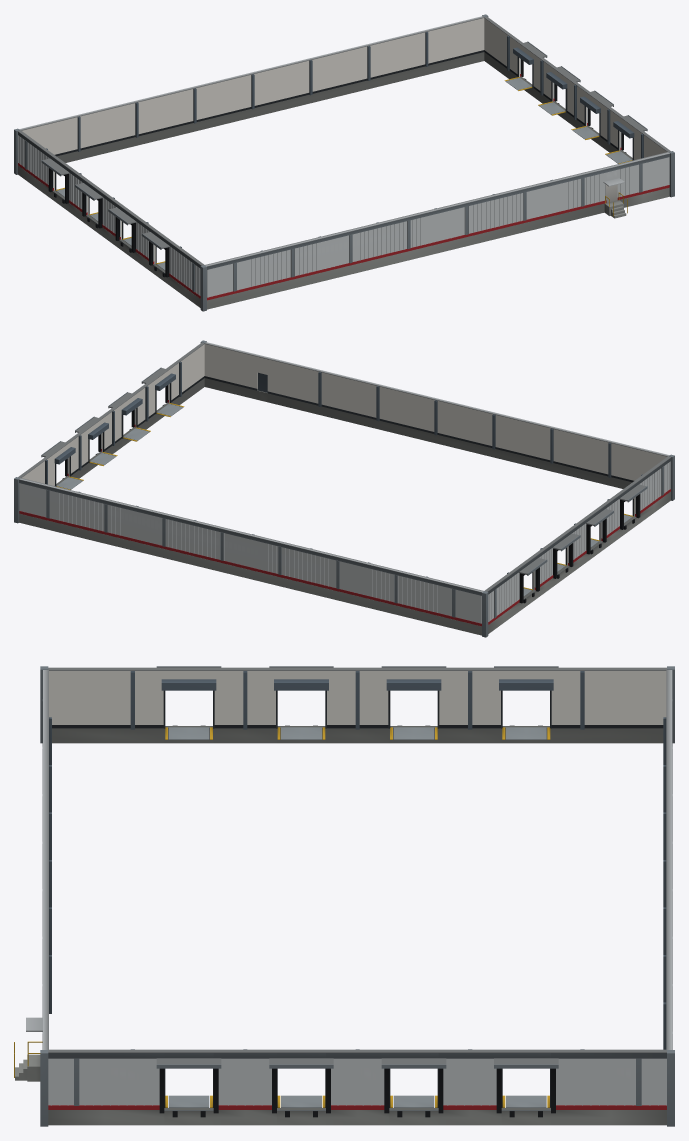
The model's file is nave-BtMkALyg.glb.
The picture shows the model from 3 angles, top to bottom: view 1: azimuth 30°, elevation 25°; view 2: azimuth 150°, elevation 25°; view 3: azimuth 270°, elevation 25°; orthographic projection. The views are drawn at different scales.
Parts seen in each view (by area): view 1: pieza.194, pieza.338, pieza.203, pieza.333, pieza.341, pieza.340, pieza.207, pieza.344, pieza.336, pieza.195, pieza.097, pieza.041 (+8 smaller); view 2: pieza.205, pieza.322, pieza.203, pieza.333, pieza.206, pieza.324, pieza.204, pieza.344, pieza.207, pieza.105, pieza.325, pieza.033 (+8 smaller); view 3: pieza, pieza.008, pieza.138, pieza.130, pieza.004, pieza.006, pieza.002, pieza.207, pieza.051, pieza.148, pieza.134, pieza.136 (+19 smaller).
Boxes of the visible parts, <box> form: pieza.194: <box>22,18,484,154</box>; pieza.338: <box>207,172,606,297</box>; pieza.203: <box>57,52,484,162</box>; pieza.333: <box>207,203,604,309</box>; pieza.341: <box>207,169,606,269</box>; pieza.340: <box>616,157,669,197</box>; pieza.207: <box>19,16,484,130</box>; pieza.344: <box>205,152,669,266</box>; pieza.336: <box>207,200,606,300</box>; pieza.195: <box>55,50,484,156</box>; pieza.097: <box>484,18,519,76</box>; pieza.041: <box>169,246,200,295</box>; pieza.205: <box>19,483,481,623</box>; pieza.322: <box>267,359,666,480</box>; pieza.203: <box>19,513,481,635</box>; pieza.333: <box>267,393,631,488</box>; pieza.206: <box>19,480,481,595</box>; pieza.324: <box>204,344,257,390</box>; pieza.204: <box>19,511,481,626</box>; pieza.344: <box>204,342,669,456</box>; pieza.207: <box>19,478,483,592</box>; pieza.105: <box>169,344,204,402</box>; pieza.325: <box>267,391,633,482</box>; pieza.033: <box>488,572,519,621</box>; pieza: <box>551,671,666,724</box>; pieza.008: <box>49,671,164,724</box>; pieza.138: <box>48,1058,159,1105</box>; pieza.130: <box>556,1058,666,1105</box>; pieza.004: <box>326,671,389,724</box>; pieza.006: <box>213,671,276,724</box>; pieza.002: <box>438,671,501,724</box>; pieza.207: <box>666,670,672,1049</box>; pieza.051: <box>48,667,666,670</box>; pieza.148: <box>48,1049,666,1052</box>; pieza.134: <box>331,1058,384,1105</box>; pieza.136: <box>218,1058,271,1105</box>.
Size of the model in its own units: 67.16 by 5.78 by 47.04.
